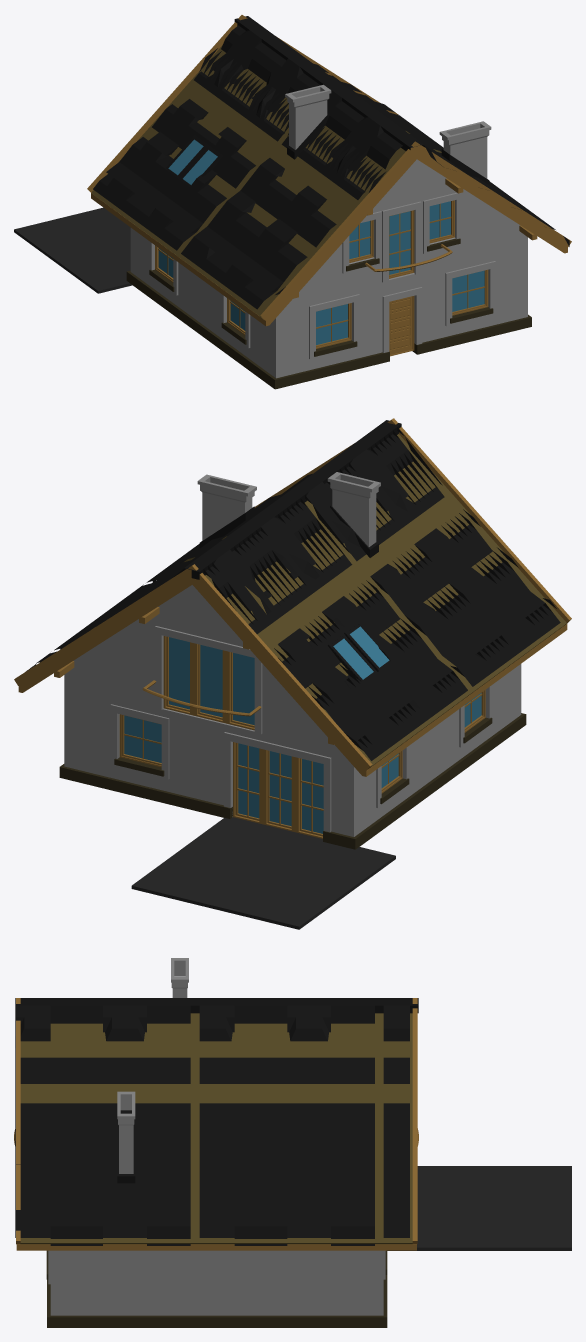
Rendered from cyprys-house.glb.
3 views of the same model, one above another, from view 1: azimuth 30°, elevation 25°; view 2: azimuth 150°, elevation 25°; view 3: azimuth 270°, elevation 25° (orthographic). The views are drawn at different scales.
Size of the model in its own units: 11.89 by 8.48 by 15.91.
